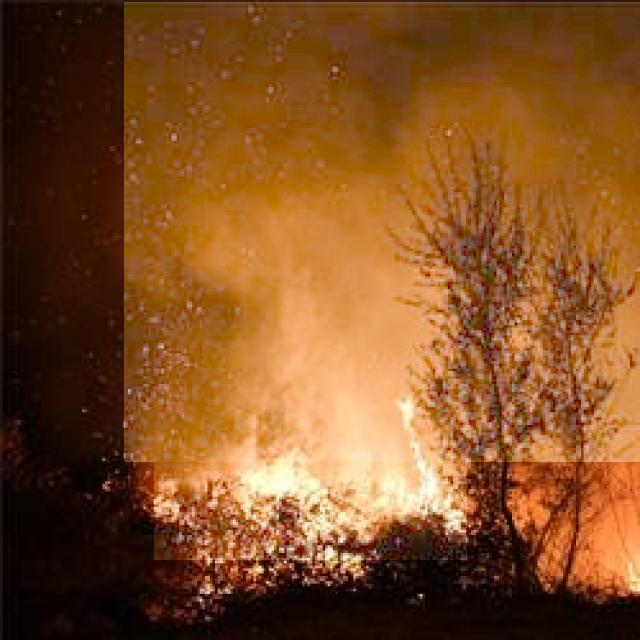Fire: (154, 387, 467, 560)
Smoke: (124, 2, 640, 462)
